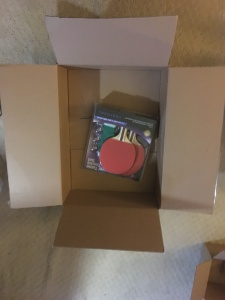innerbox: (56, 63, 165, 210)
outerbox: (2, 16, 216, 250)
product: (87, 107, 146, 179)
